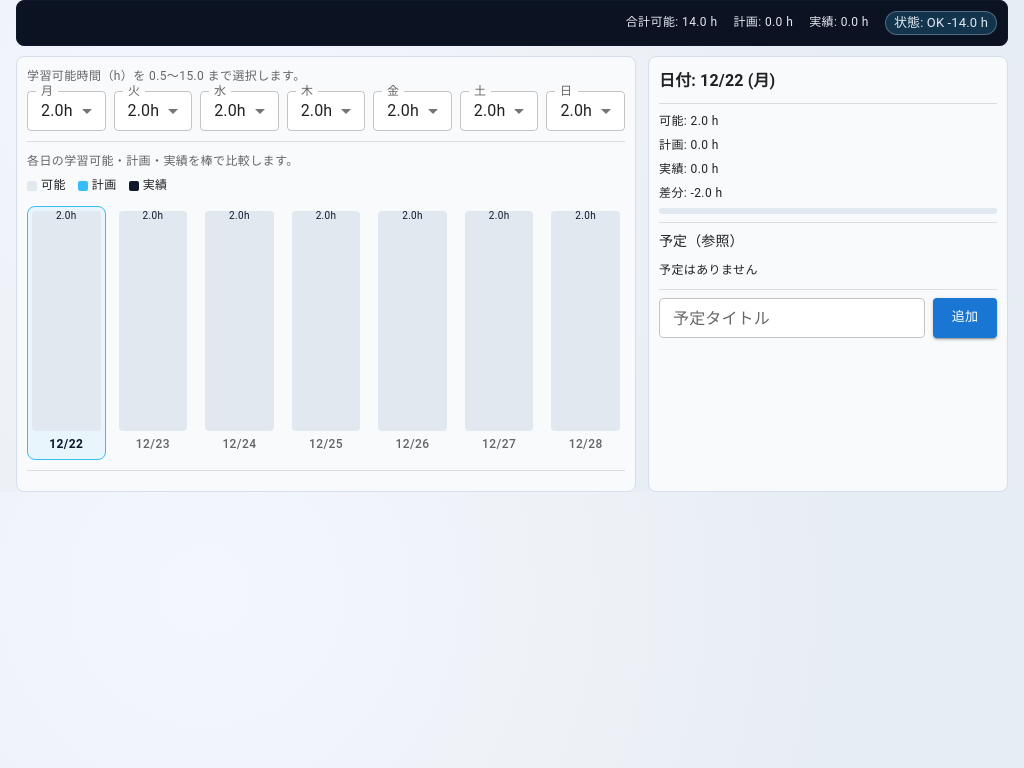
Scenario: PlanView は選択日を更新し学習可能時間を上書きできる
Check: the heading "日付: 12/22 (月)" is shown, box top-left (659, 71), bottom-right (775, 90)
Click the text "12/24" at (239, 445), box top-left (222, 435), bottom-right (256, 455)
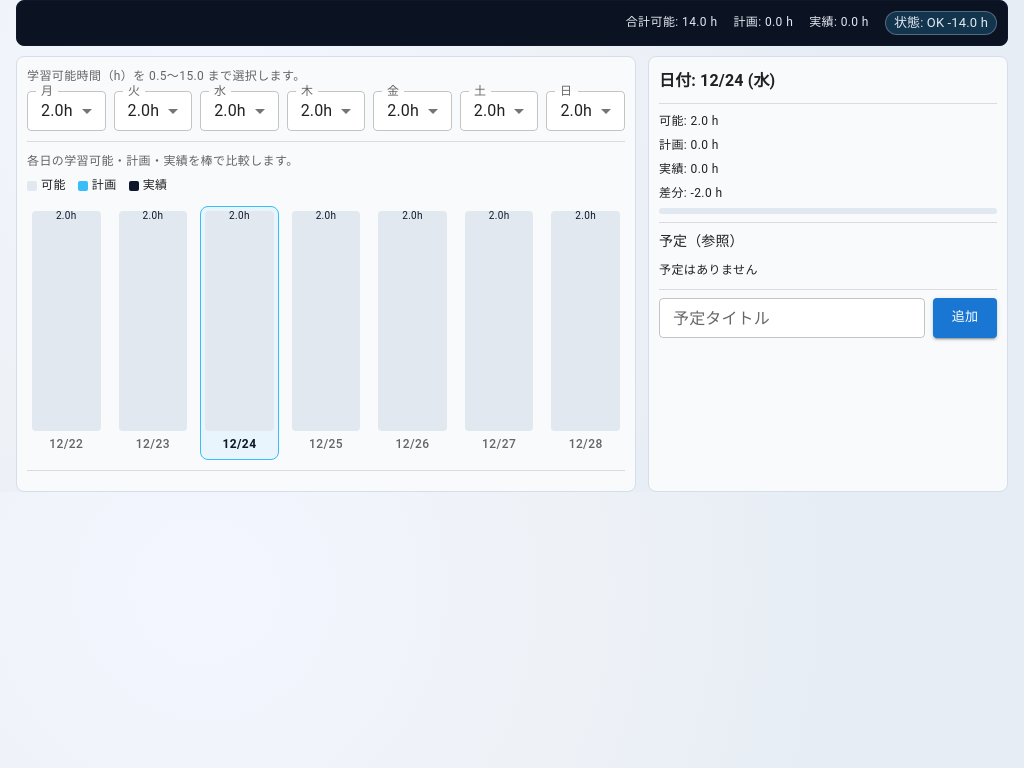
Check: the heading "日付: 12/24 (水)" is shown, box top-left (659, 71), bottom-right (775, 90)
Click the dropdown named "月" at (57, 111), box top-left (41, 101), bottom-right (73, 120)
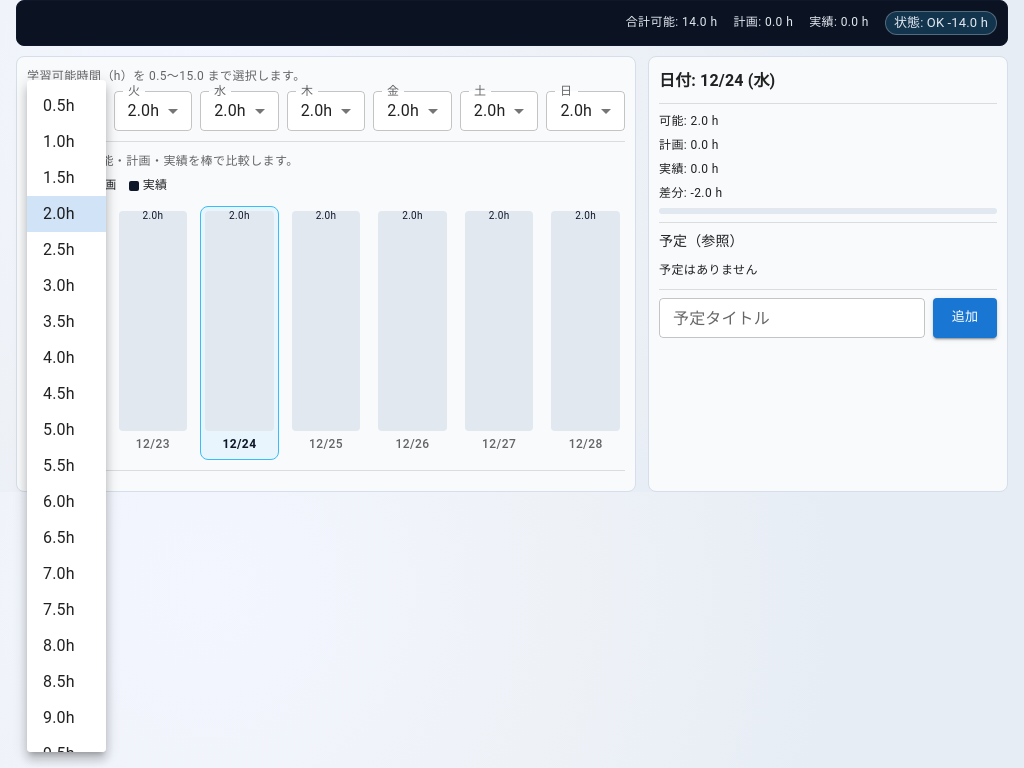
Click the option "1.5h" at (59, 178), box top-left (43, 168), bottom-right (75, 187)
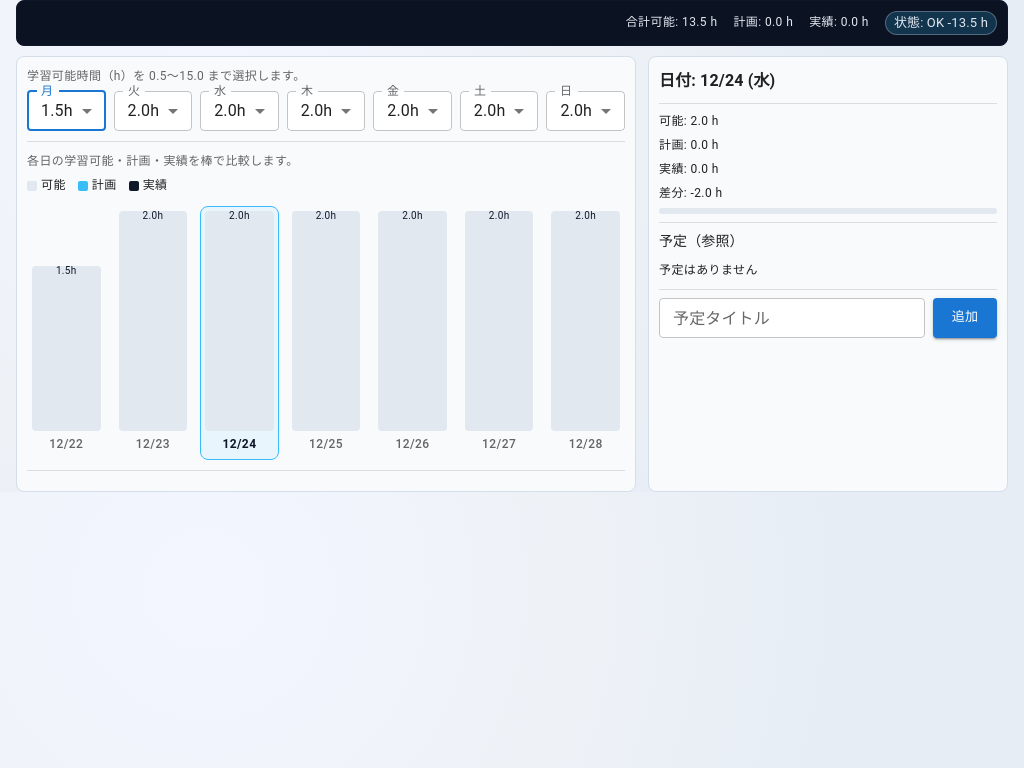
Check: the dropdown named "月" reads "1.5h", box top-left (41, 101), bottom-right (73, 120)
